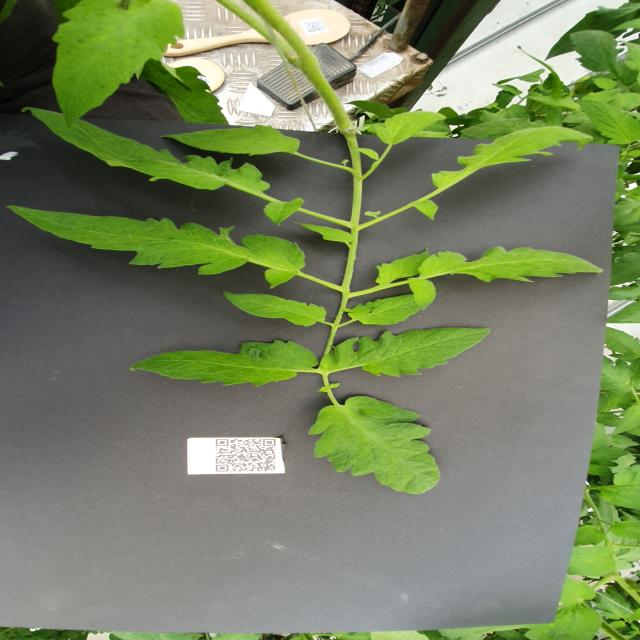Healthy Leaf: (8, 205, 306, 290), (22, 108, 272, 192), (52, 1, 186, 130), (306, 397, 443, 495), (432, 127, 594, 191), (128, 340, 321, 388), (323, 327, 494, 378), (419, 246, 605, 286), (161, 125, 301, 157), (221, 291, 327, 329), (574, 99, 640, 145), (374, 111, 448, 145), (571, 31, 626, 73), (350, 295, 423, 326), (377, 249, 432, 285), (293, 221, 355, 244), (605, 327, 640, 363), (264, 199, 305, 228), (409, 278, 437, 312), (415, 201, 440, 222)
